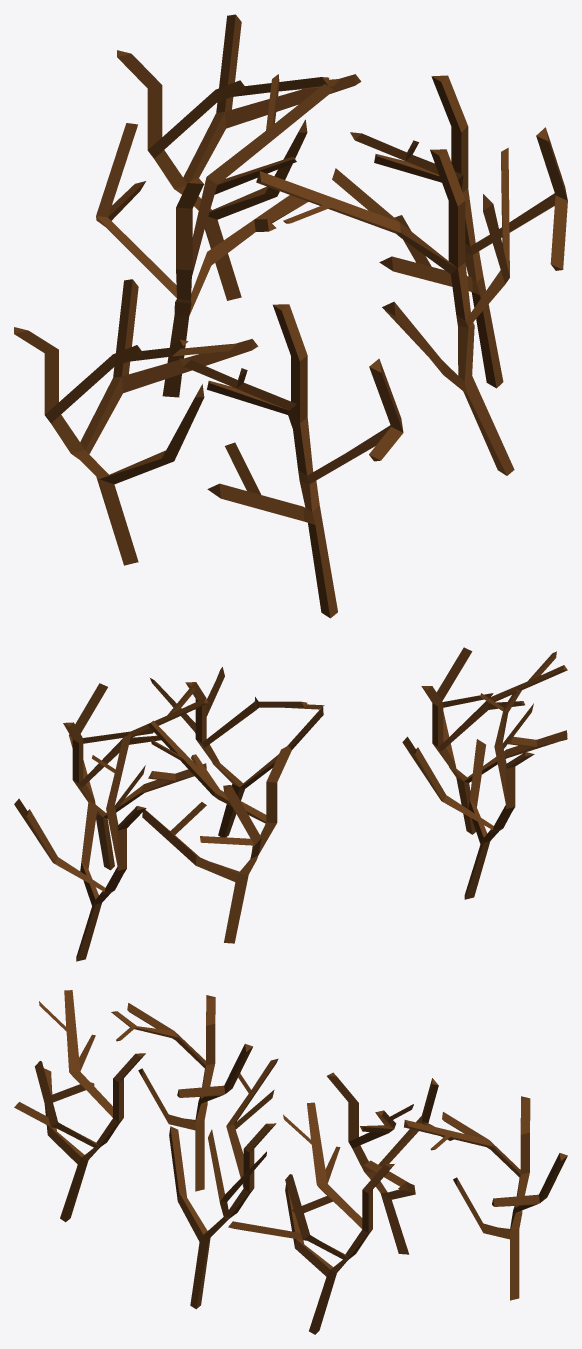
The model's file is keskmine poosas surnud.fbx.
The picture shows the model from 3 angles, top to bottom: view 1: azimuth 30°, elevation 25°; view 2: azimuth 150°, elevation 25°; view 3: azimuth 270°, elevation 25°; orthographic projection. The views are drawn at different scales.
Parts seen in each view (by area): view 1: raaguskeskmine; view 2: raaguskeskmine; view 3: raaguskeskmine.
Part boxes in pixels (<box>): raaguskeskmine: <box>14,14,567,618</box>; raaguskeskmine: <box>14,647,567,961</box>; raaguskeskmine: <box>14,990,567,1334</box>.
Bounding box in the file's own units: 225 × 102 × 267.
